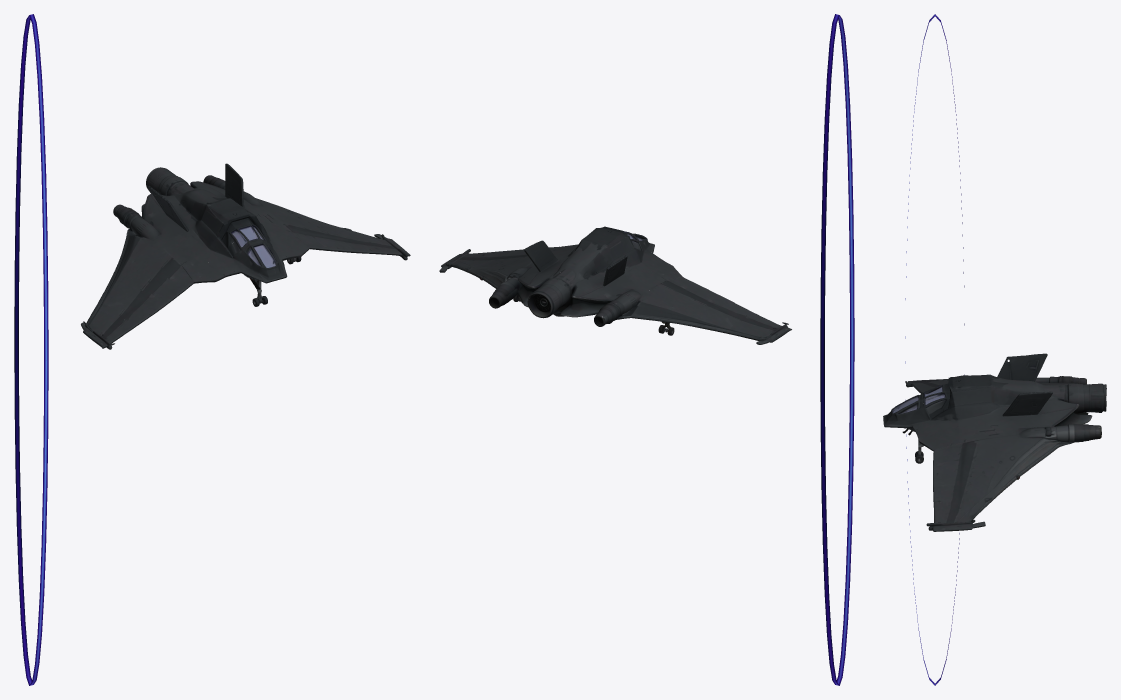
File: x302_fighter_thrust.glb
The picture shows the model from 3 angles, left to right: view 1: azimuth 30°, elevation 25°; view 2: azimuth 150°, elevation 25°; view 3: azimuth 270°, elevation 25°; orthographic projection.
Parts seen in each view (by area): view 1: world, Thrust; view 2: world, Thrust; view 3: world, Thrust.
Part boxes in pixels (x1,y1,x2,y2): world: (81,163,410,349); Thrust: (14,14,48,685); world: (439,226,791,344); Thrust: (820,14,854,685); world: (883,353,1106,531); Thrust: (905,14,964,685).
Size of the model in its own units: 1.19 by 2 by 0.6054.
2 materials, 2 textured.
